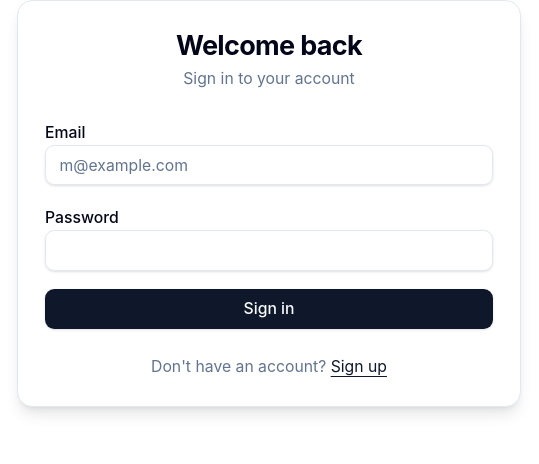
it: LoginForm validation › shows password required error when submitted with empty password
Type "user@example.com" into the field labelled "Email" at (269, 165), box [45,145,493,186]
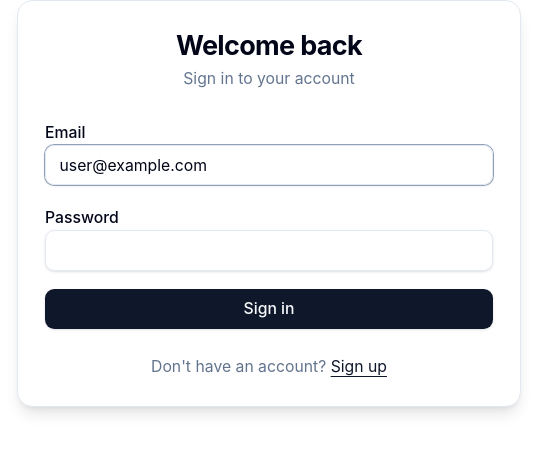
Click the button "Sign in" at (269, 309), box [45,289,493,330]
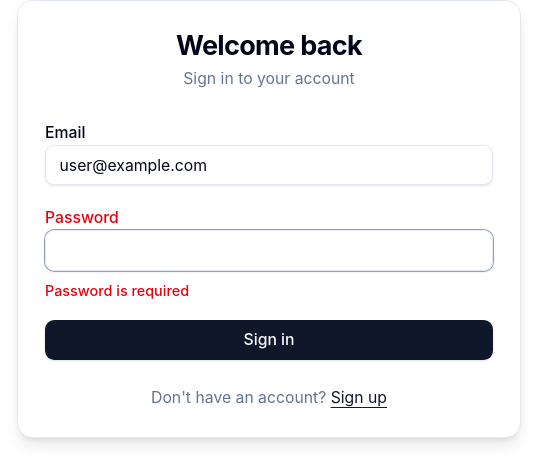
Now the text "Password is required" is shown, box [45,282,189,299]
